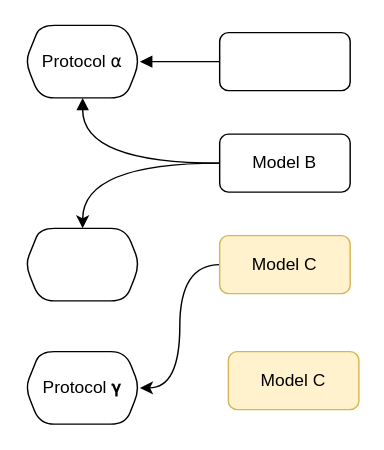
The diagram is 384 pixels wide and 450 high, and some of its shapes have lost their labels. Each missing label, with the centre of its shape:
"Model A" belongs at (x=284, y=61).
"Protocol β" belongs at (x=82, y=264).
